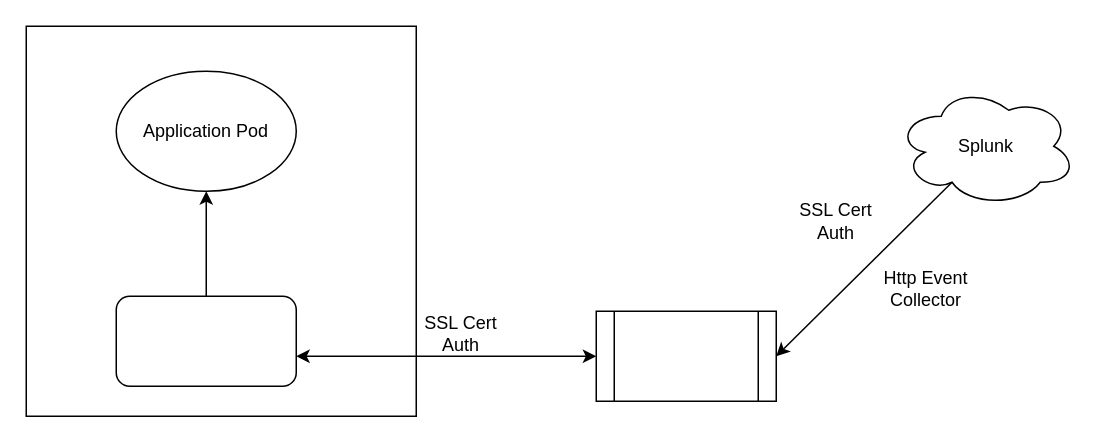
The diagram is 1103 pixels wide and 443 high, and some of its shapes have lost their labels. Here are the shapes that lost their labels. From the top down, the centre of each, then its label:
At point (205, 340): "Filebeat sidecar".
At point (685, 355): "Kafka Topic".
